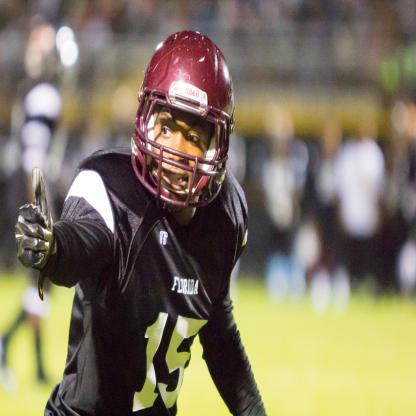Helmet: (129, 29, 234, 213)
